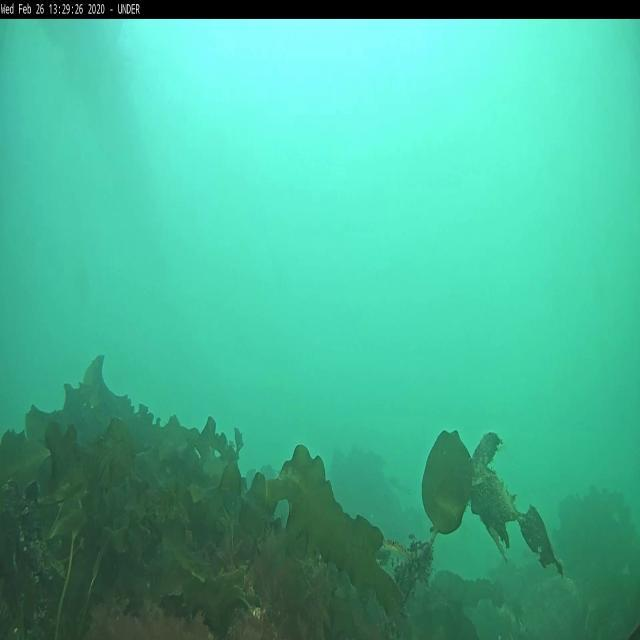fish: (382, 538, 410, 558)
